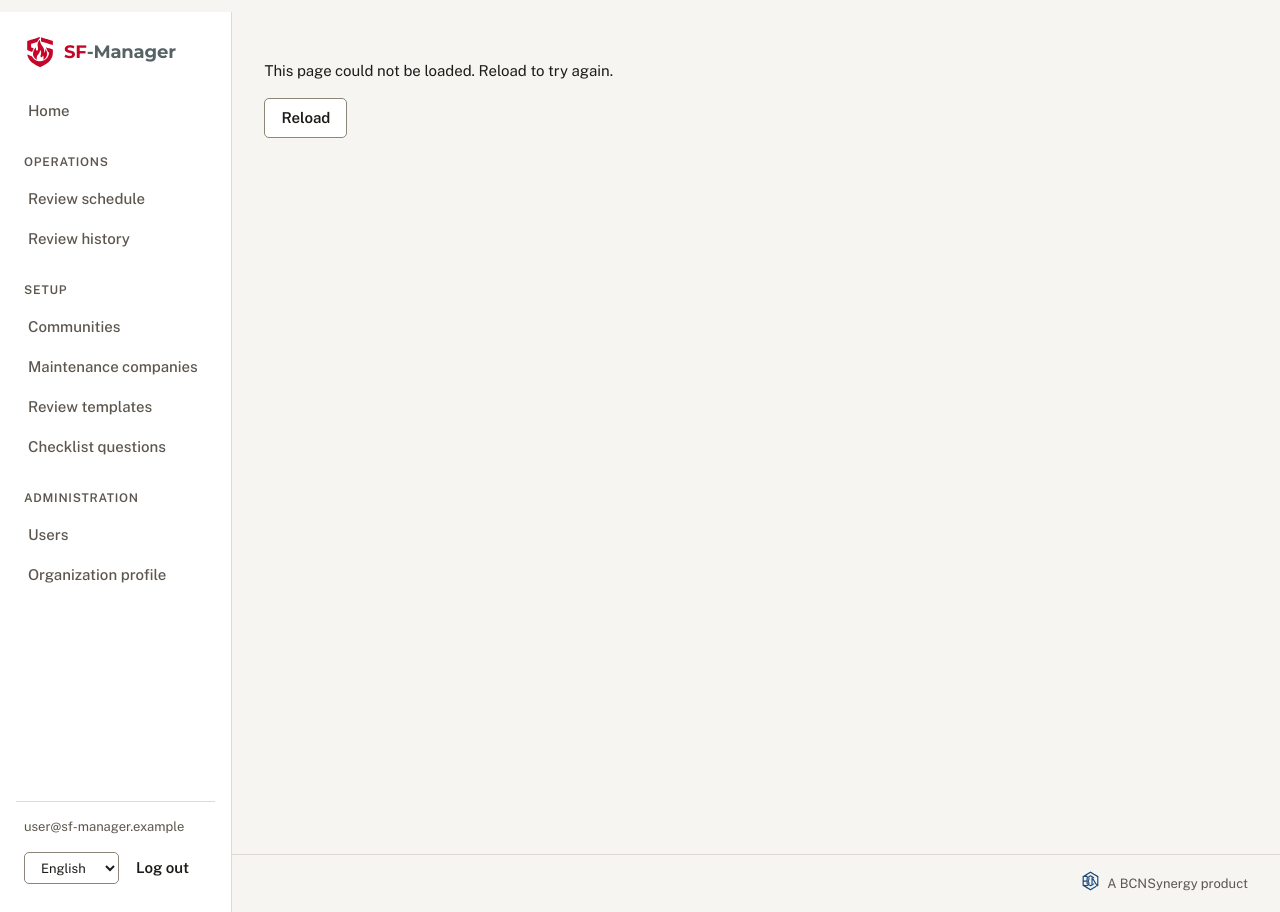
Test case: AppLayout lazy page loading (TD-8) › clears the page-load error when the user navigates to another page
This screenshot has width=1280, height=912.
Check: the navigation bar with test id "nav-root" is shown, box [0, 12, 232, 911]
Check: the message "This page could not be loaded. Reload to try again." is shown, box [264, 60, 613, 82]
Click the link with test id "nav-link-home" at (49, 110), box [28, 102, 70, 119]
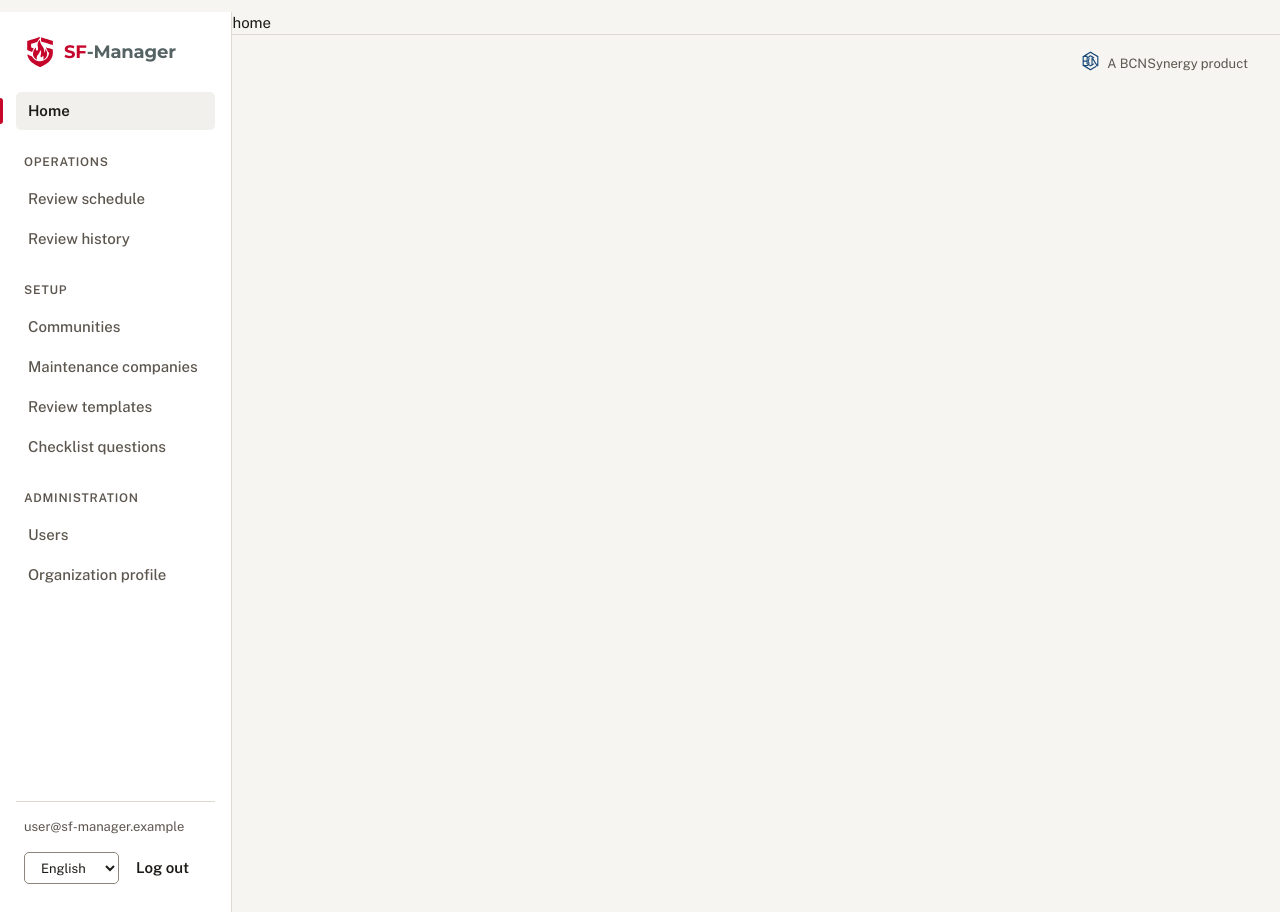
Check: the text with test id "outlet-content" reads "home", box [232, 14, 271, 31]
Check: the message with test id "page-load-error" is gone
